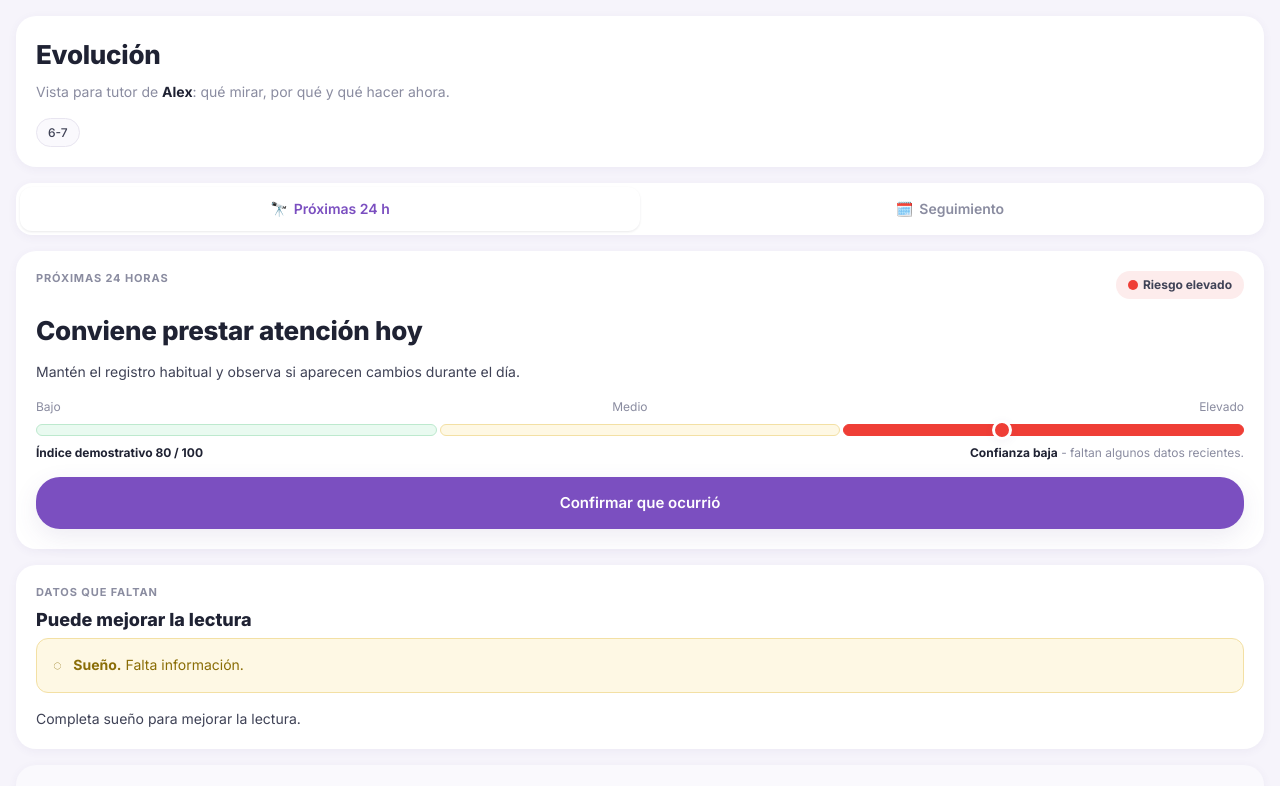
Evolucion › renders separate safe prediction fields and confirms an outcome without exposing model score
Expected: the text "Riesgo elevado" is shown, [1116,271,1244,299]
Expected: the text "Confianza baja" is shown, [970,445,1058,460]
Click the button "Confirmar que ocurrió". click: (640, 503)
box: [36,477,1244,529]
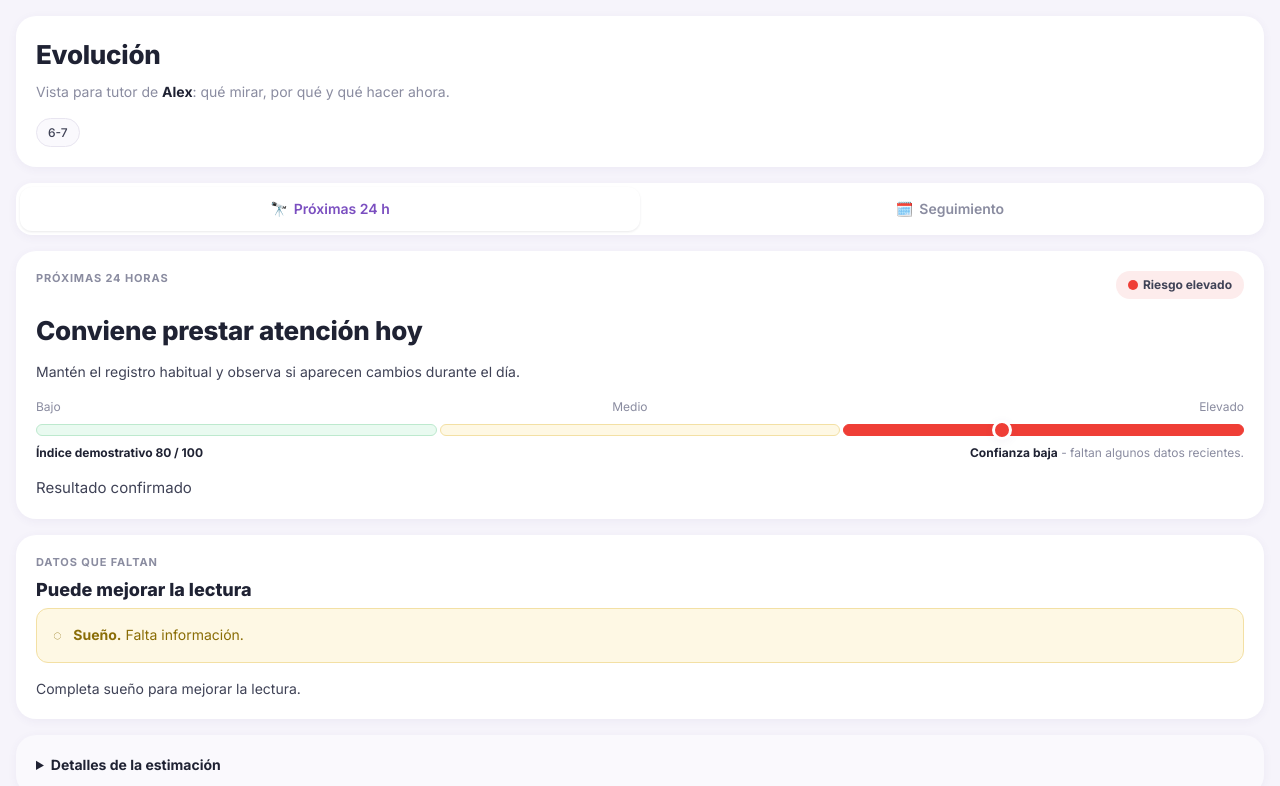
Now the message reads "Resultado confirmado", box [36,478,192,497]
